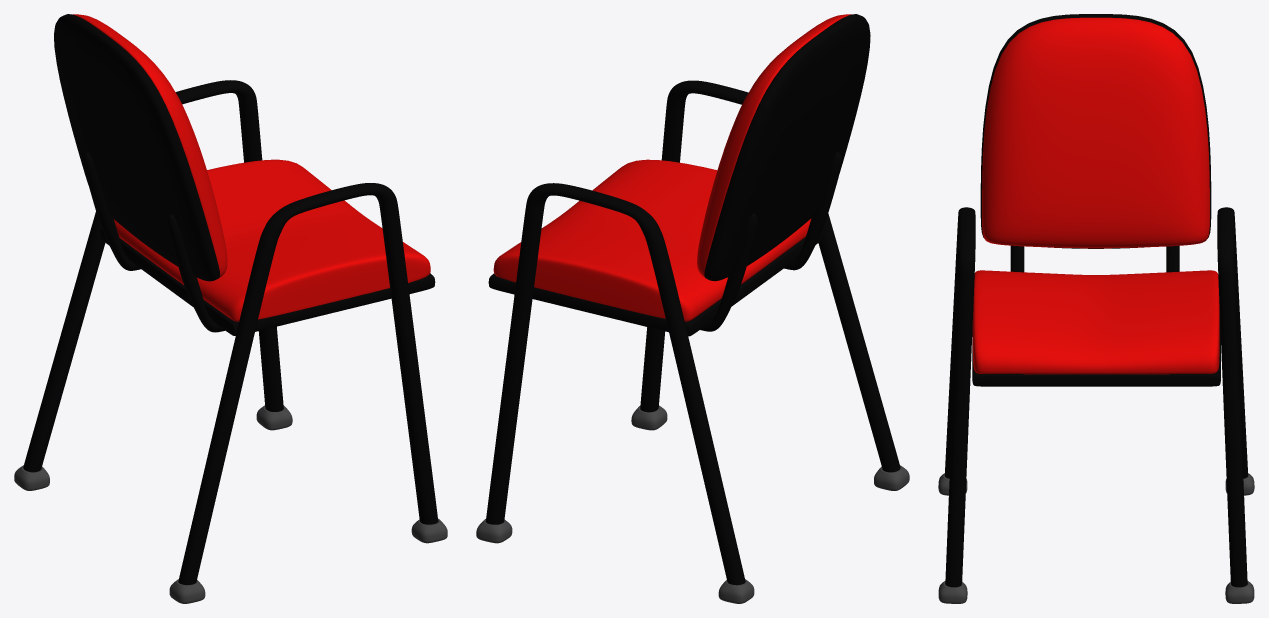
File: chair.fbx
The picture shows the model from 3 angles, left to right: view 1: azimuth 30°, elevation 25°; view 2: azimuth 150°, elevation 25°; view 3: azimuth 270°, elevation 25°; orthographic projection. The views are drawn at different scales.
Visible parts, largest first — view 1: Cube; view 2: Cube; view 3: Cube.
Boxes of the visible parts, box(x1,y1,x2,y2) form: Cube: box(14, 14, 447, 603); Cube: box(476, 14, 909, 603); Cube: box(938, 14, 1254, 603).
Bounding box in the file's own units: 205 × 366 × 221.
